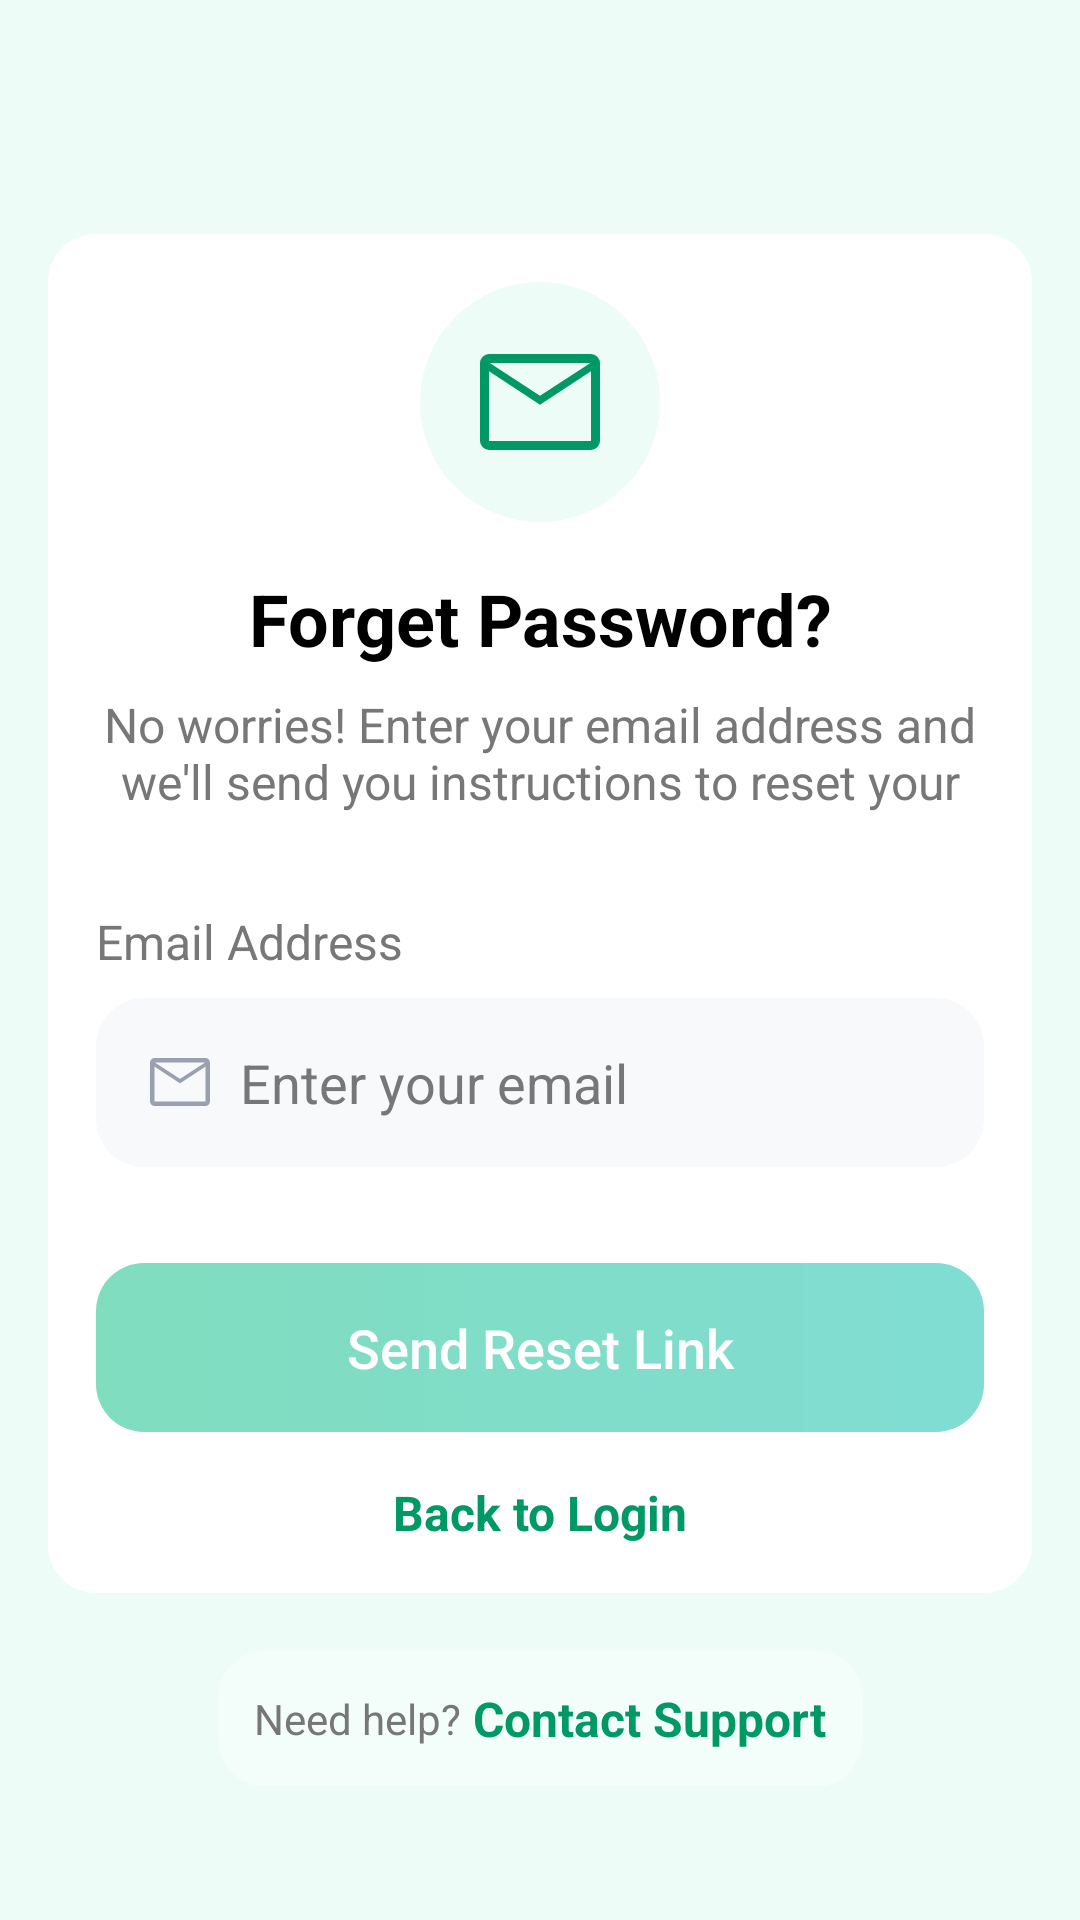

Icons on this 1080w x 1920h Android screen, each with the point to tap as point (x, y):
mail: point (540, 402)
